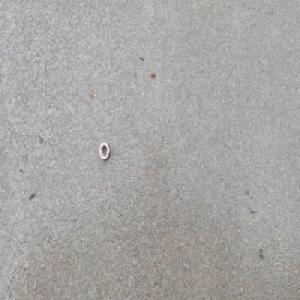Nut: (98, 141, 110, 160)
